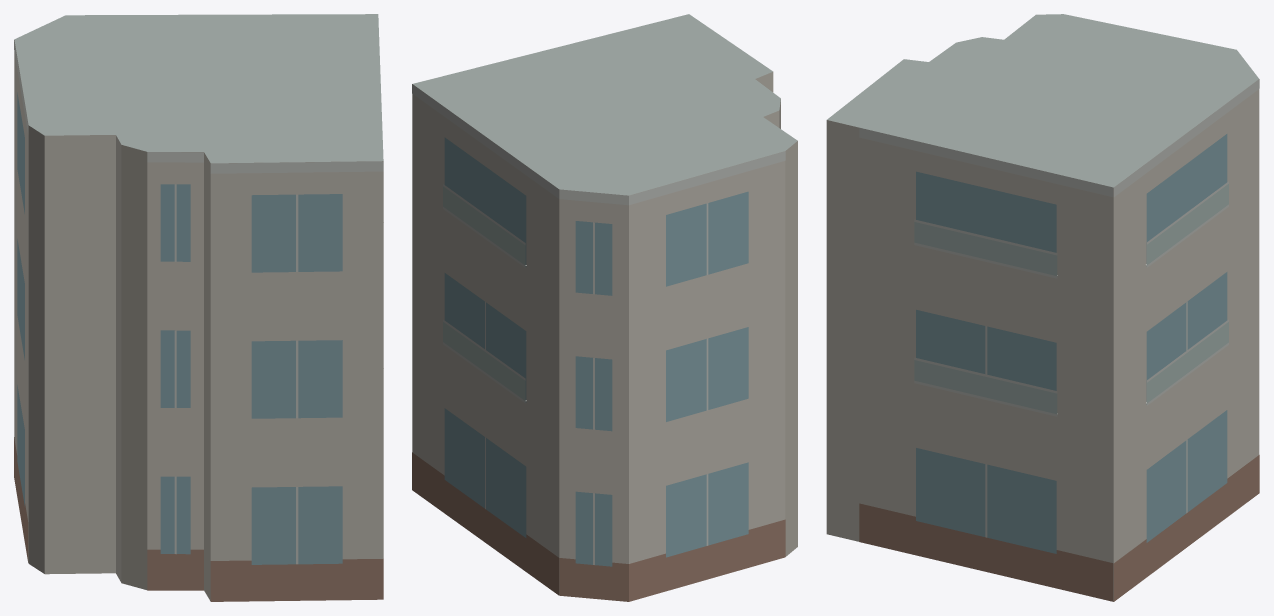
Rendered from survey-upis-32495760.glb.
3 views of the same model, side by side, from view 1: azimuth 30°, elevation 25°; view 2: azimuth 150°, elevation 25°; view 3: azimuth 270°, elevation 25° (orthographic). The views are drawn at different scales.
Parts seen in each view (by area): view 1: survey-upis-32495760.tmp; view 2: survey-upis-32495760.tmp; view 3: survey-upis-32495760.tmp.
Part boxes in pixels (x1,y1,x2,y2): survey-upis-32495760.tmp: (14, 14, 383, 601); survey-upis-32495760.tmp: (412, 14, 797, 601); survey-upis-32495760.tmp: (826, 14, 1259, 601).
Bounding box in the file's own units: 9.17 × 10.2 × 9.67.
